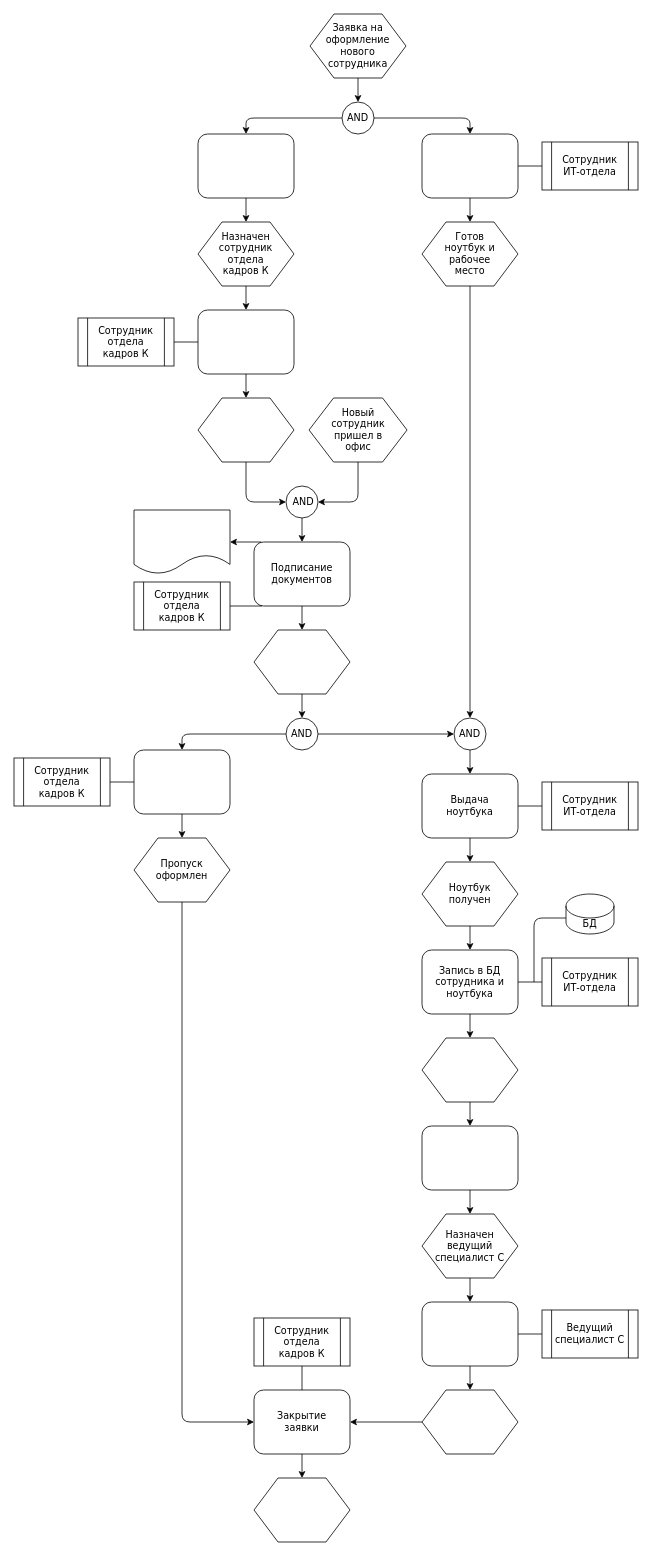
Some shapes in this 652 by 1556 pixel diagram are drawn without their labels. The box of each missing label's shape, as (x1, y1, x2, y2) in pixels:
БД обновлена: (421, 1037, 518, 1102)
Выбор ответственного за обучение: (421, 1125, 518, 1190)
Выбор ответственного за подготовку документов: (197, 133, 294, 198)
Документы готовы: (197, 397, 294, 462)
Документы подписаны: (253, 629, 350, 694)
Новый сотрудник нанят: (253, 1477, 350, 1542)
Новый сотрудник обучен: (421, 1389, 518, 1454)
Обучение нового сотрудника: (421, 1301, 518, 1366)
Отправка данных на проходную офиса: (133, 749, 230, 814)
Подготовка документов: (197, 309, 294, 374)
Подготовка рабочего места: (421, 133, 518, 198)
Трудовой договор и пр.: (133, 509, 230, 574)
